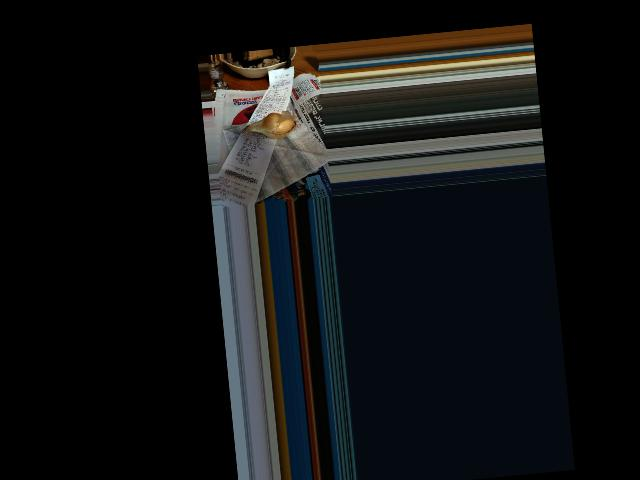onion: (251, 113, 296, 140)
